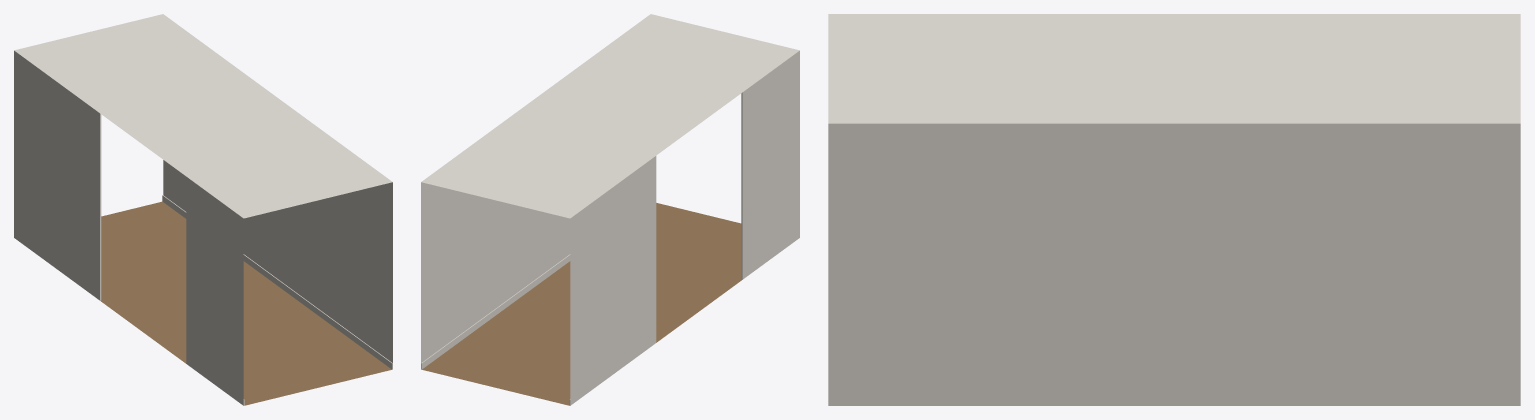
The model's file is north-hall.glb.
The picture shows the model from 3 angles, left to right: view 1: azimuth 30°, elevation 25°; view 2: azimuth 150°, elevation 25°; view 3: azimuth 270°, elevation 25°; orthographic projection. The views are drawn at different scales.
Parts seen in each view (by area): view 1: north-hall; view 2: north-hall; view 3: north-hall.
Part boxes in pixels (<box>): north-hall: <box>14,14,392,405</box>; north-hall: <box>421,14,799,405</box>; north-hall: <box>828,14,1520,405</box>.
Bounding box in the file's own units: 3 × 3.6 × 8.
